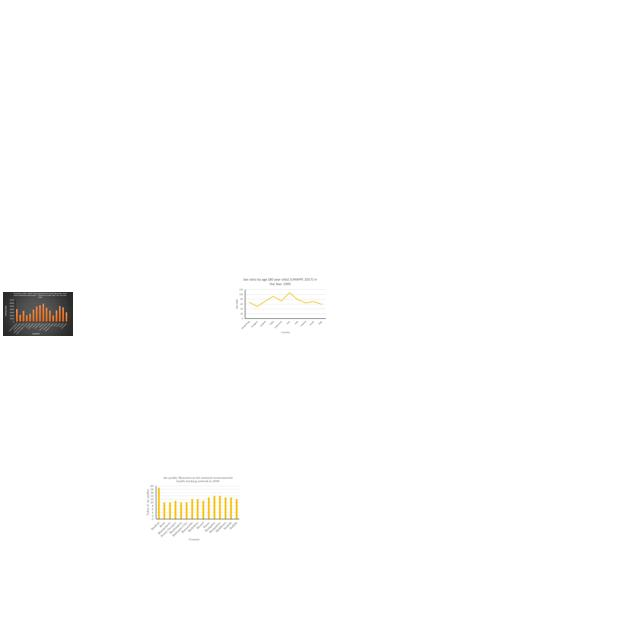Graph: (144, 475, 242, 543), (233, 276, 327, 335), (3, 292, 73, 336)
